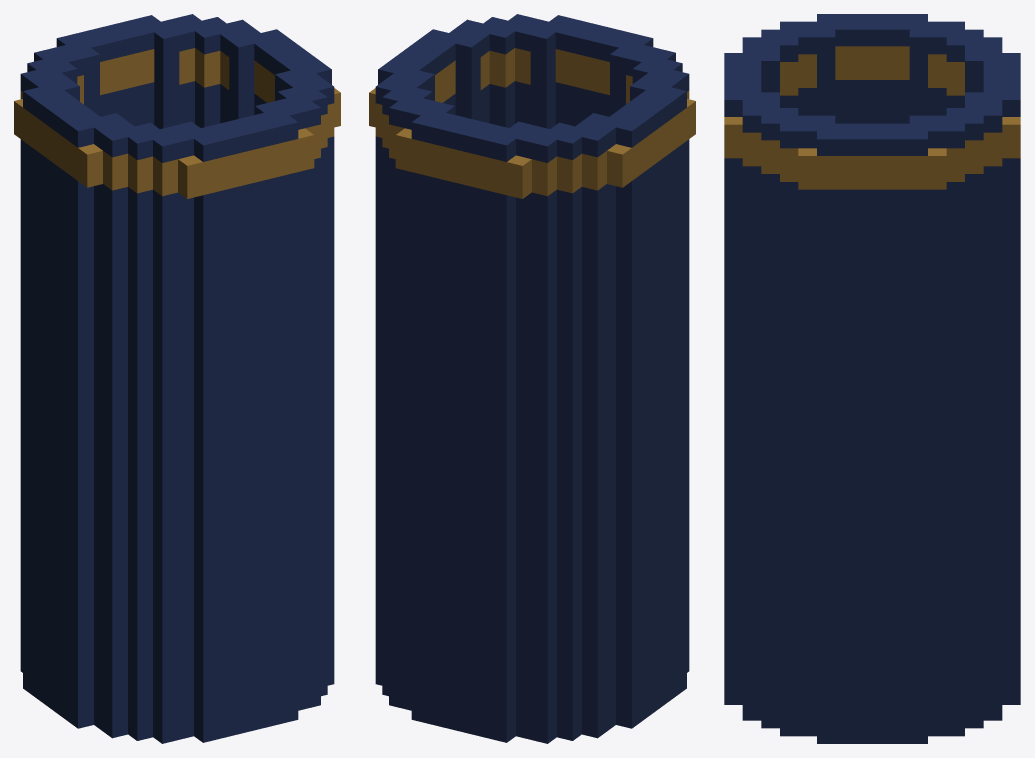
The model's file is cloth_rare_leg_L.glb.
The picture shows the model from 3 angles, left to right: view 1: azimuth 30°, elevation 25°; view 2: azimuth 150°, elevation 25°; view 3: azimuth 270°, elevation 25°; orthographic projection.
Visible parts, largest first — view 1: cloth_rare_leg_L; view 2: cloth_rare_leg_L; view 3: cloth_rare_leg_L.
Boxes of the visible parts, bbox=[...] form: cloth_rare_leg_L: bbox=[14, 14, 340, 743]; cloth_rare_leg_L: bbox=[369, 14, 695, 743]; cloth_rare_leg_L: bbox=[724, 14, 1020, 743].
Bounding box in the file's own units: 0.192 × 0.432 × 0.192.
